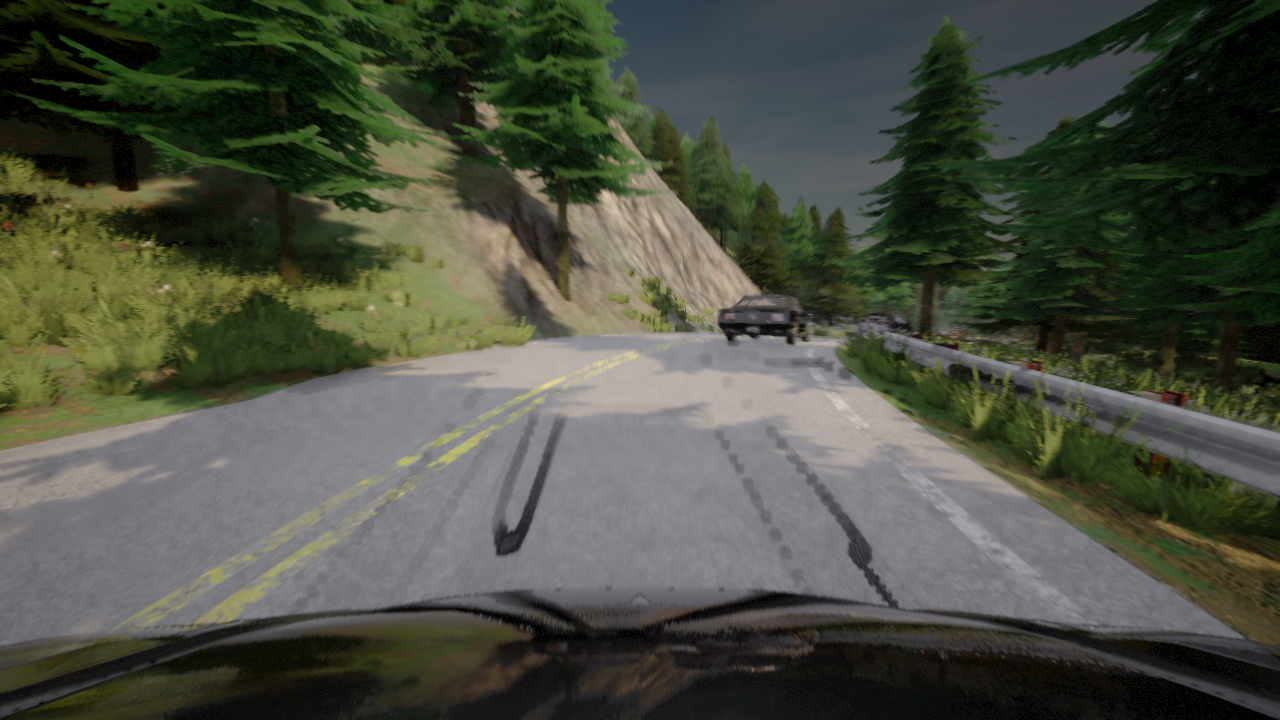cyclist: (0, 588, 1279, 719), (718, 296, 811, 344), (858, 312, 912, 336), (934, 325, 964, 339)
